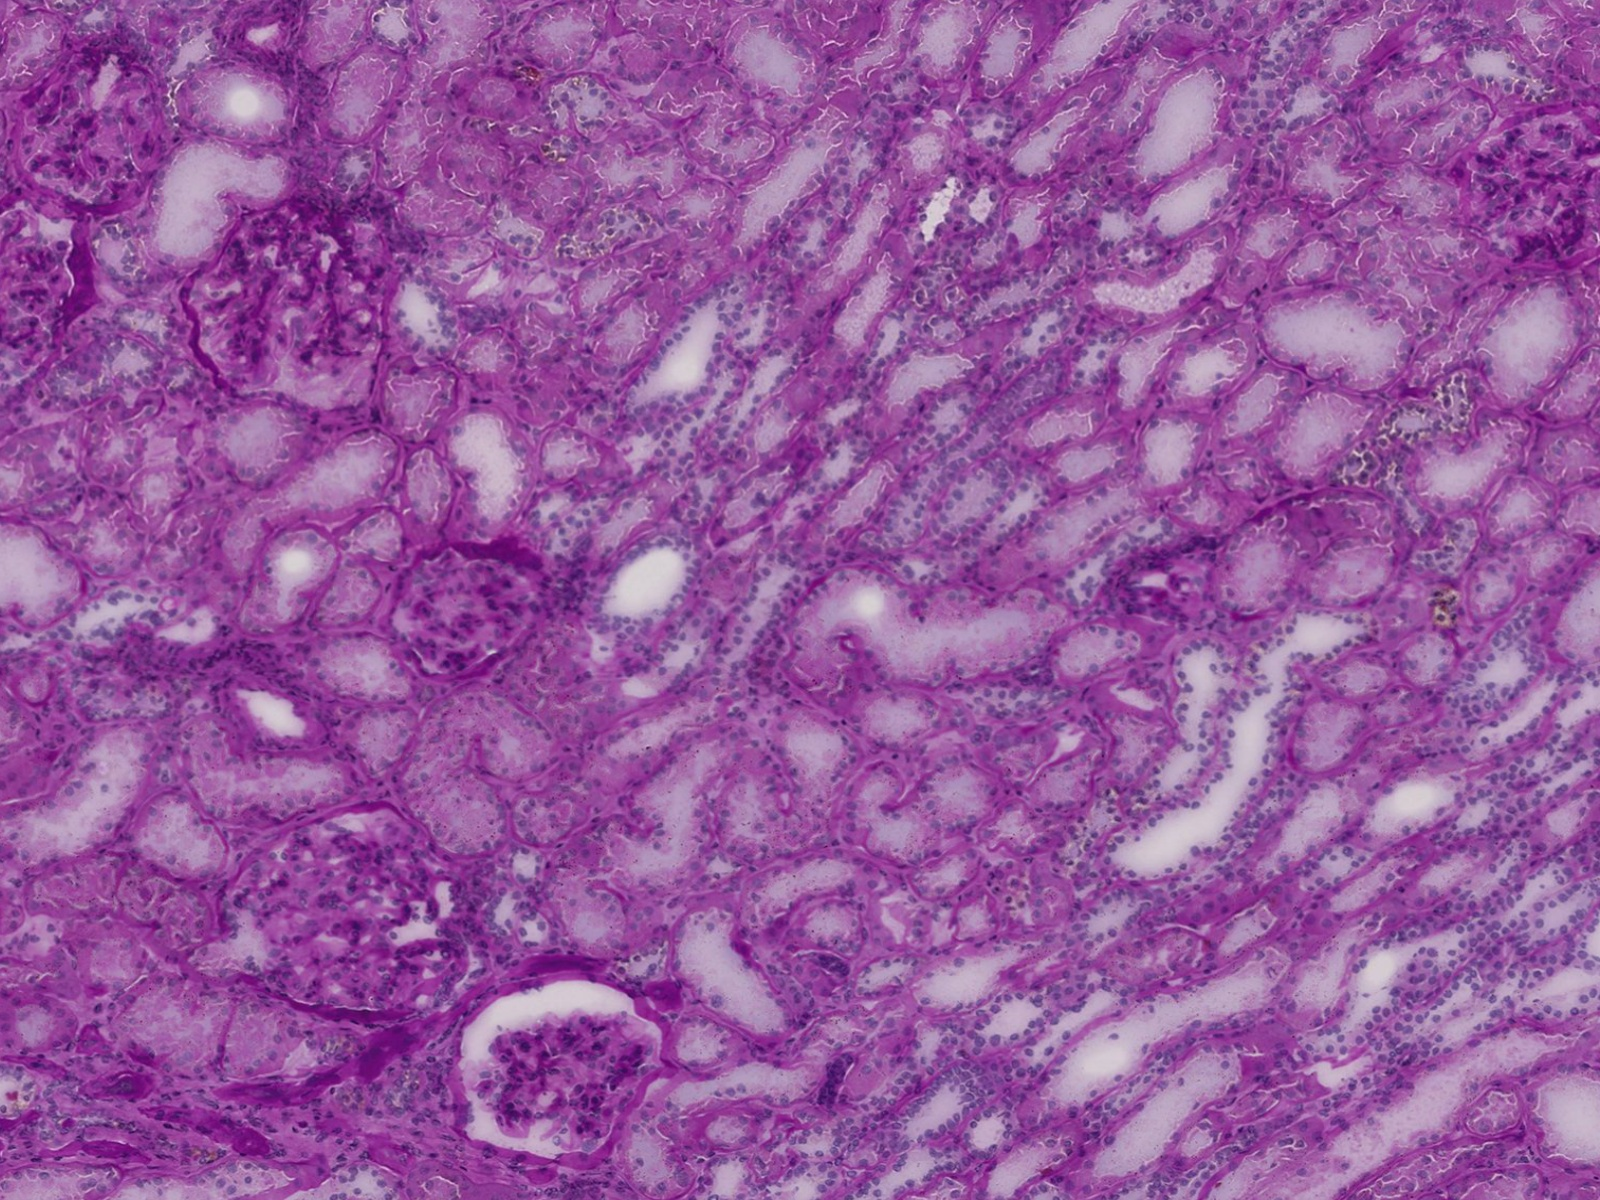Glomeruli: (224, 795, 480, 1026), (176, 202, 401, 413), (460, 995, 665, 1161), (8, 29, 183, 211), (1468, 96, 1600, 263), (386, 545, 542, 676), (8, 217, 89, 402)
